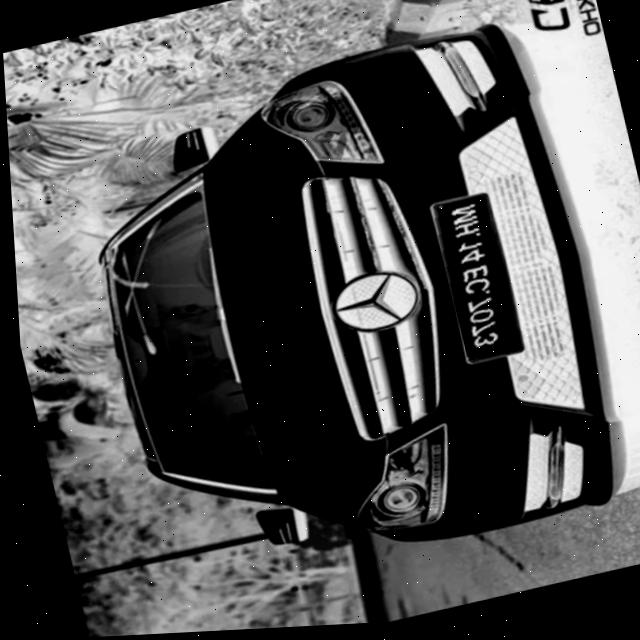Non_registered: (428, 199, 519, 366)
